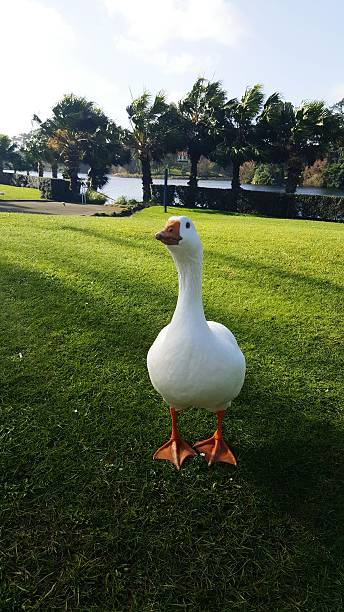goose: (139, 213, 254, 473)
